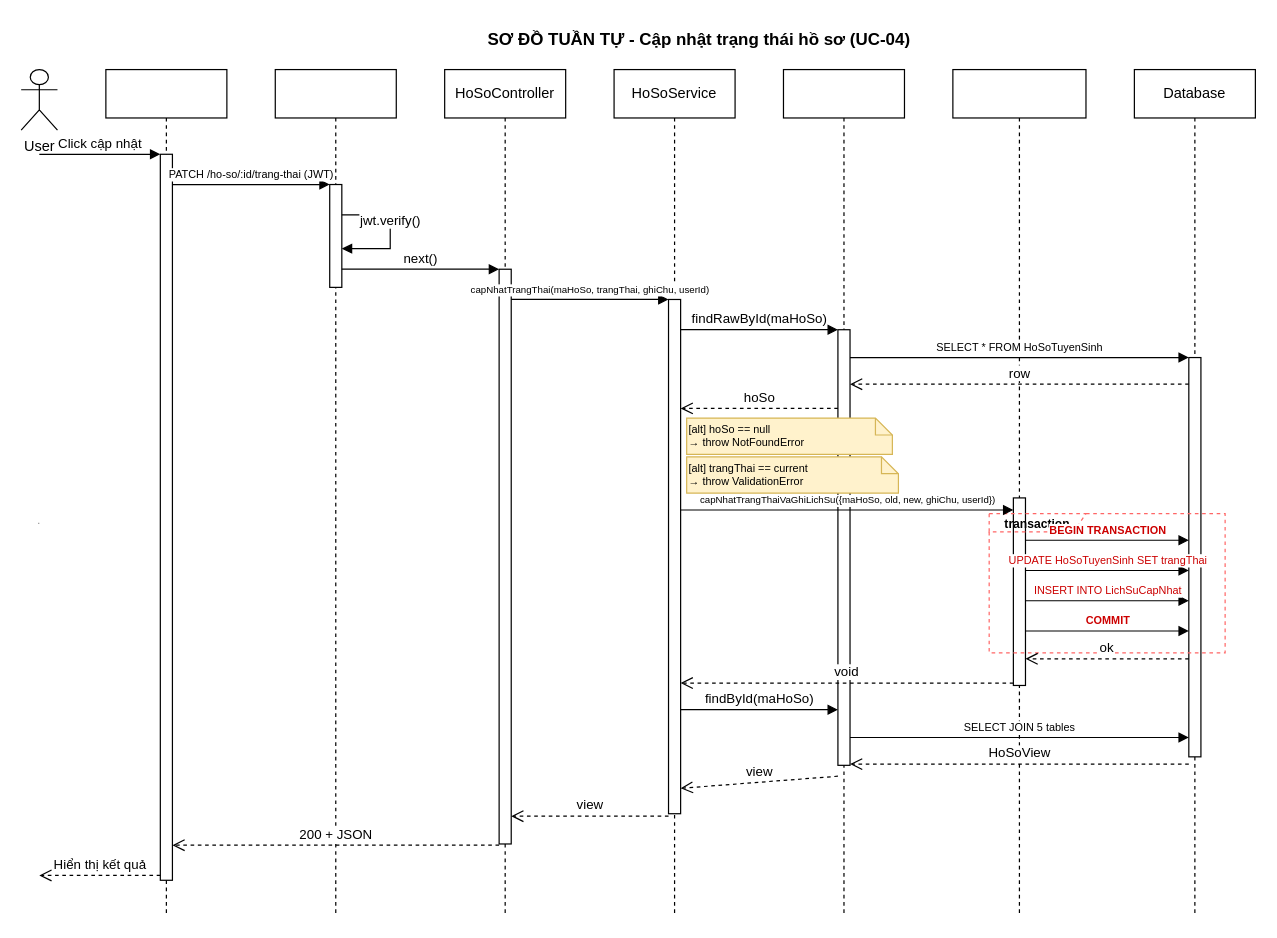
Image size: 1277x938. Some labels were removed from this diagram. Each missing label, with the box of its shape:
authMiddleware: (274, 68, 396, 917)
HoSoRepository: (782, 68, 904, 917)
LichSuRepository: (952, 68, 1086, 917)
React SPA: (105, 68, 227, 917)
